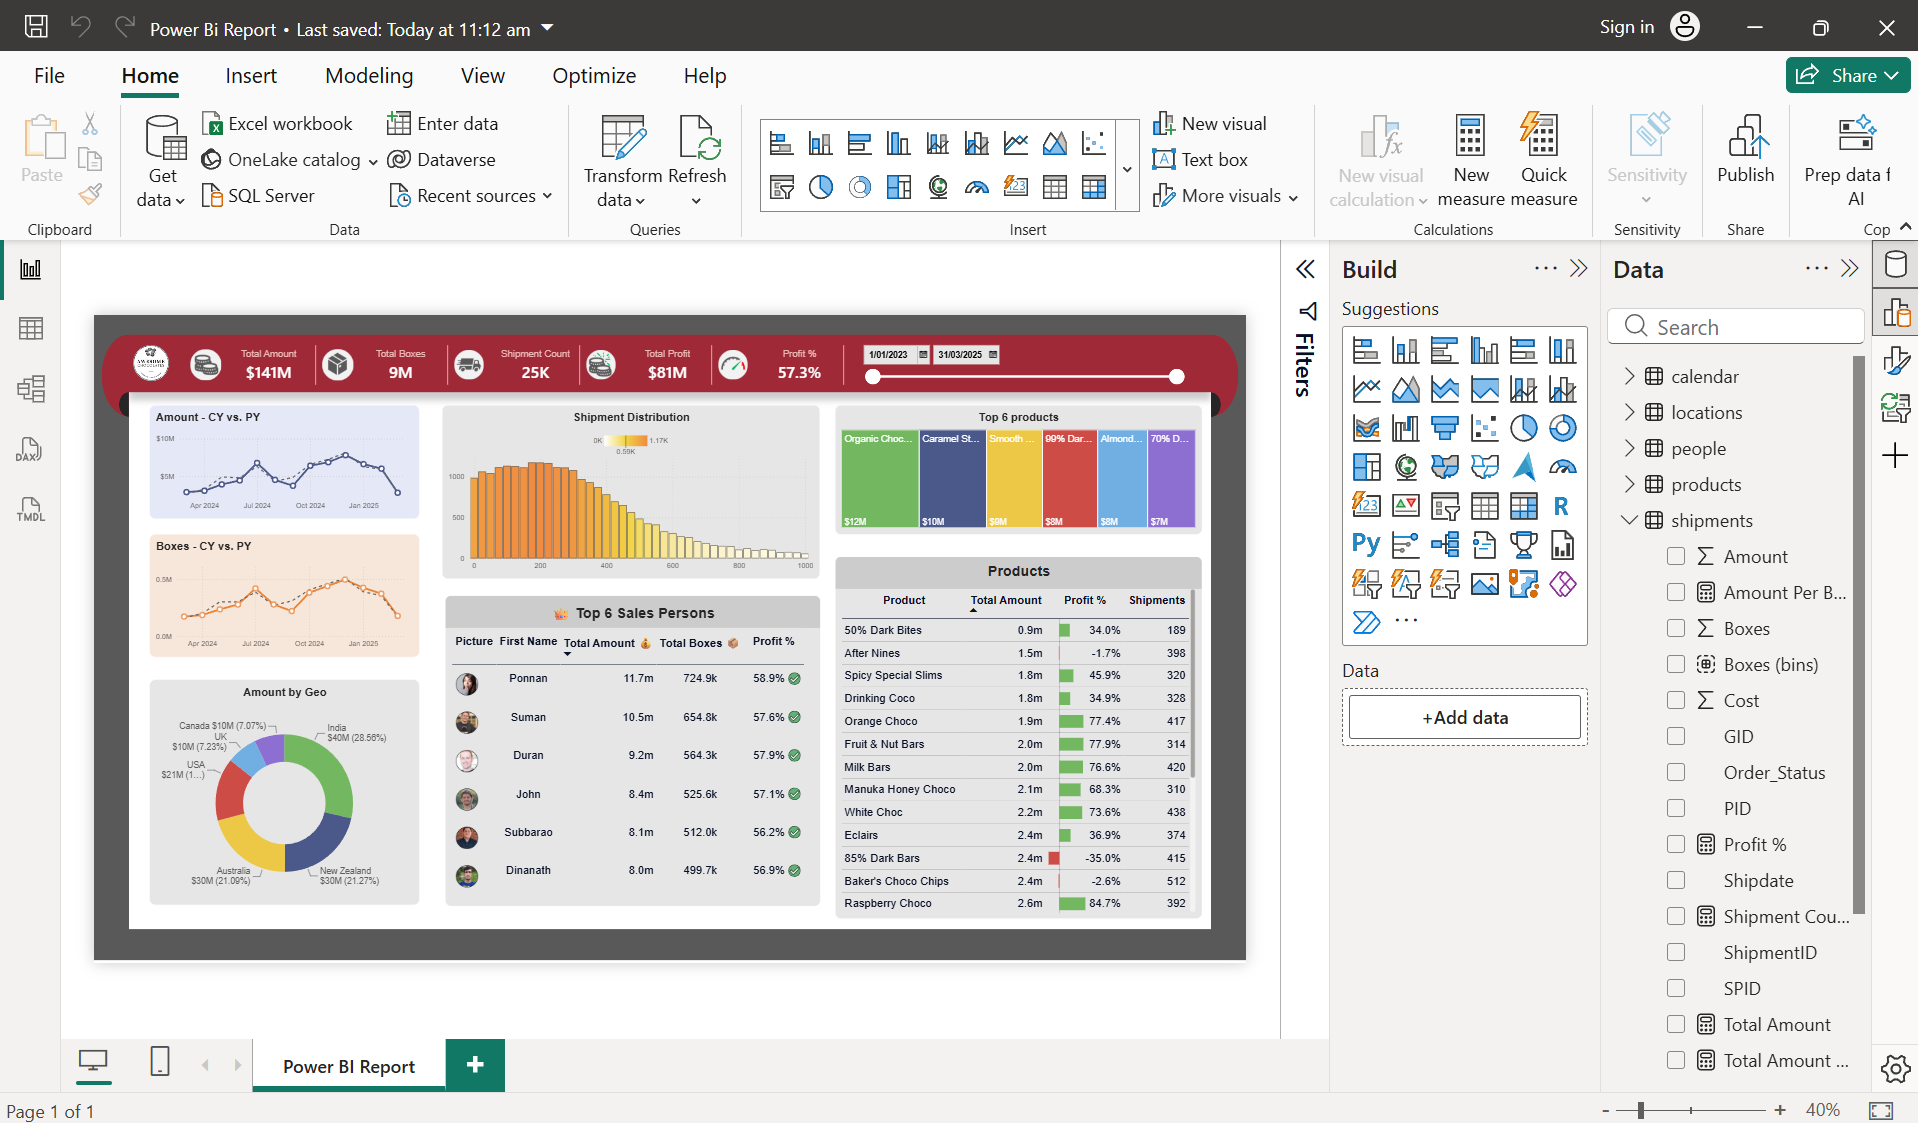

The page's visual inventory and layout, read from the dashboard file:
{"tool":"powerbi","page":{"name":"Power BI  Report","canvas":[1920,1080],"ordinal":0},"visuals":[{"type":"lineChart","title":"Amount - CY vs. PY","fields":{"Y":["shipments.Total Amount","shipments.Total Amount (Last Year)"],"Category":["calendar.Start of Month"]},"box":[92.5,150,450,190],"z":0},{"type":"lineChart","title":"Boxes - CY vs. PY","fields":{"Y":["shipments.Total Boxes","shipments.Total Boxes (Last Year)"],"Category":["calendar.Start of Month"]},"box":[92.5,365,450,205],"z":1000},{"type":"donutChart","title":"Amount by Geo","fields":{"Category":["locations.Geo"],"Y":["shipments.Total Amount"]},"box":[92,608,450,376],"z":2000},{"type":"clusteredColumnChart","title":"Shipment Distribution","fields":{"Category":["shipments.Boxes (bins)"],"Y":["shipments.Shipment Count"]},"box":[580,150,630,290],"z":3000},{"type":"tableEx","title":"👑 Top 6 Sales Persons","fields":{"Values":["people.Picture","people.First Name","shipments.Total Amount","shipments.Total Boxes","shipments.Profit %"]},"box":[584,468,626,518],"z":4000},{"type":"treemap","title":"Top 6 products","fields":{"Values":["shipments.Total Amount"],"Group":["products.Product"]},"box":[1234,150,612,216],"z":5000},{"type":"tableEx","title":"Products","fields":{"Values":["products.Product","shipments.Total Amount","shipments.Profit %","shipments.Shipment Count"]},"box":[1234,402,612,604],"z":6000},{"type":"cardVisual","fields":{"Data":["shipments.Total Amount","shipments.Total Boxes","shipments.Shipment Count","shipments.Total Profit","shipments.Profit %"]},"box":[154,46,1100,76],"z":7000},{"type":"slicer","fields":{"Values":["calendar.cal_date"]},"box":[1276,46,546,76],"z":8000}]}

Visuals, with their boxes on the page's 1920x1080 design canvas (x1, y1, x2, y2). These are canvas units, not pixel positions in the 1918x1123 screenshot, which may show the page scaled, cropped or inside an application window:
"Amount - CY vs. PY" lineChart: detection(92, 150, 542, 340)
"Boxes - CY vs. PY" lineChart: detection(92, 365, 542, 570)
"Amount by Geo" donutChart: detection(92, 608, 542, 984)
"Shipment Distribution" clusteredColumnChart: detection(580, 150, 1210, 440)
"👑 Top 6 Sales Persons" tableEx: detection(584, 468, 1210, 986)
"Top 6 products" treemap: detection(1234, 150, 1846, 366)
"Products" tableEx: detection(1234, 402, 1846, 1006)
cardVisual - shipments.Total Amount x shipments.Total Boxes: detection(154, 46, 1254, 122)
slicer - calendar.cal_date: detection(1276, 46, 1822, 122)
